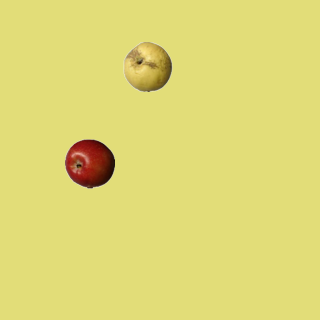Apple Braeburn: (64, 138, 114, 188)
Apple Golden 1: (122, 41, 172, 91)
